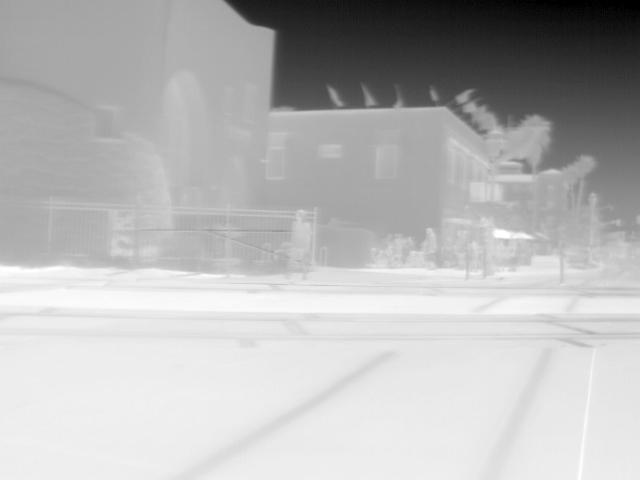person: (283, 209, 315, 280), (422, 225, 440, 268)
